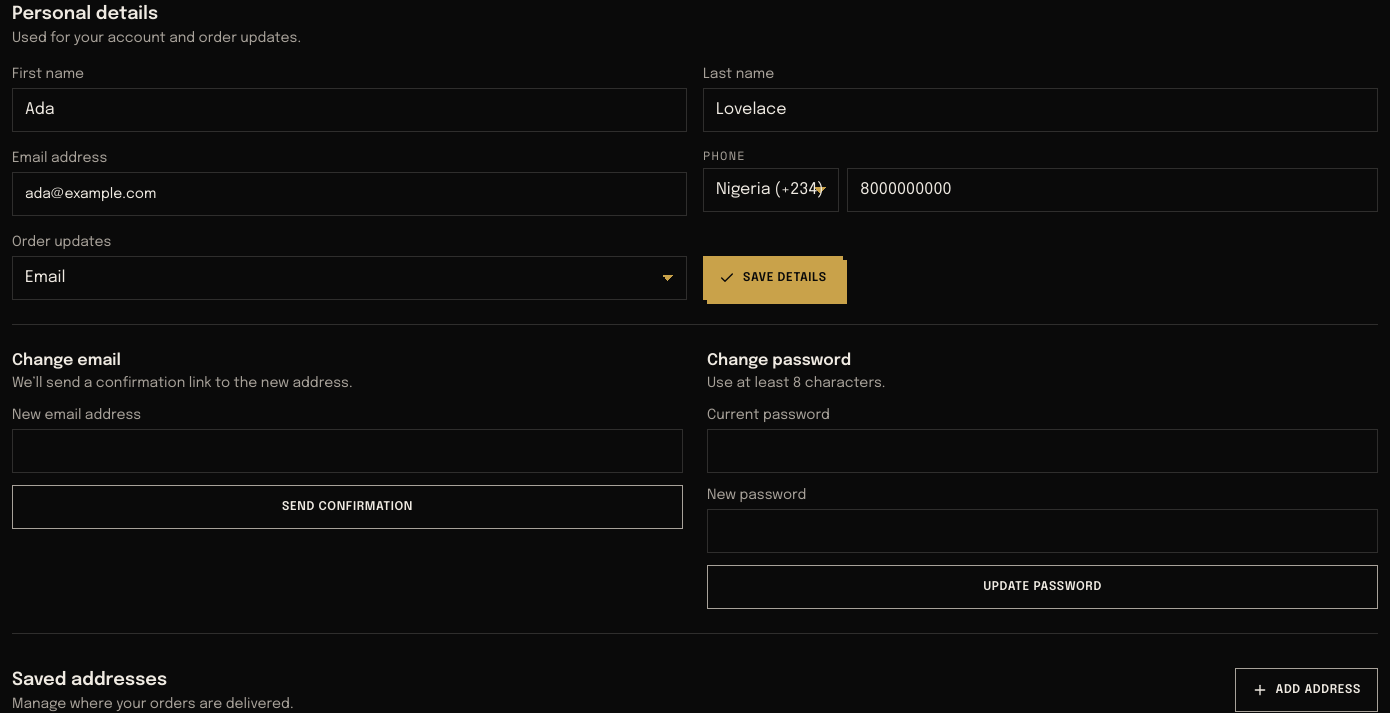
Scenario: AccountProfile › lets the customer change their password
Type "old-password" into the password field labelled "Current password". click: (1042, 451)
box: [707,429,1378,473]
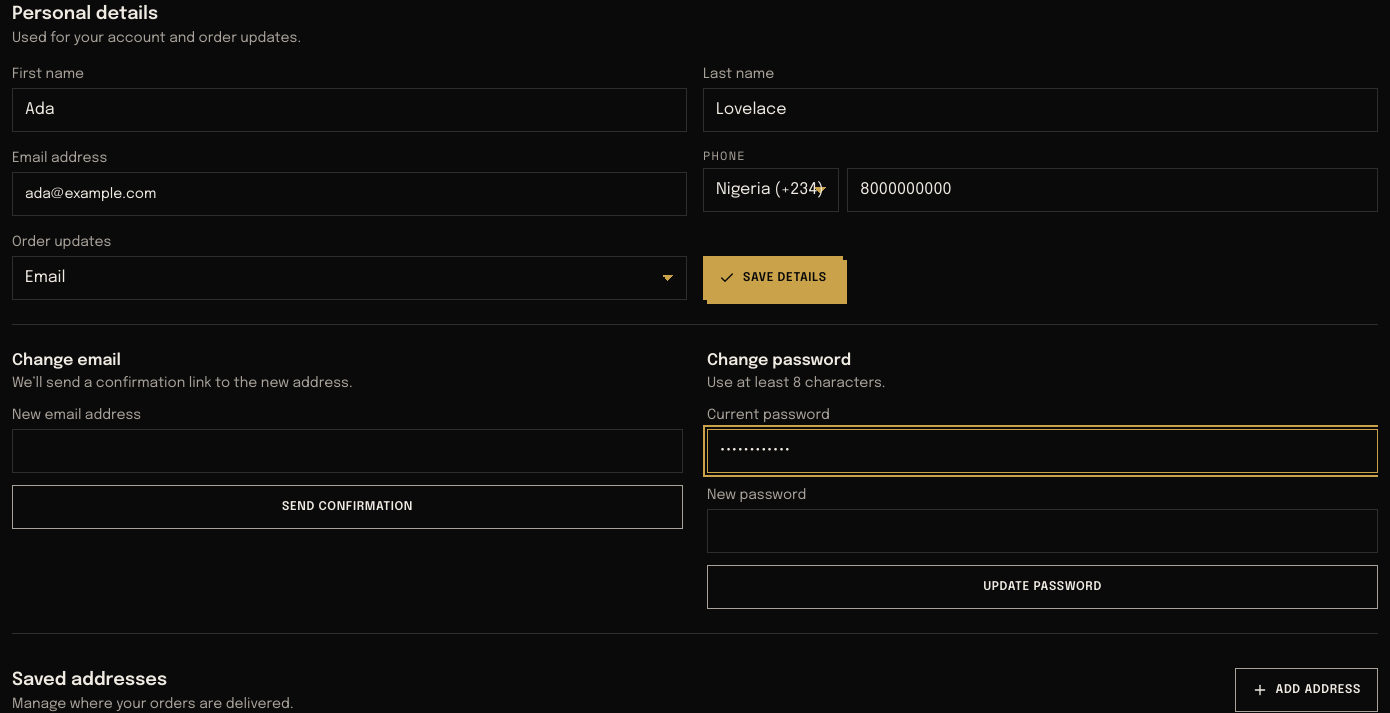
Type "new-password-123" into the password field labelled "New password". click: (1042, 531)
box: [707,509,1378,553]
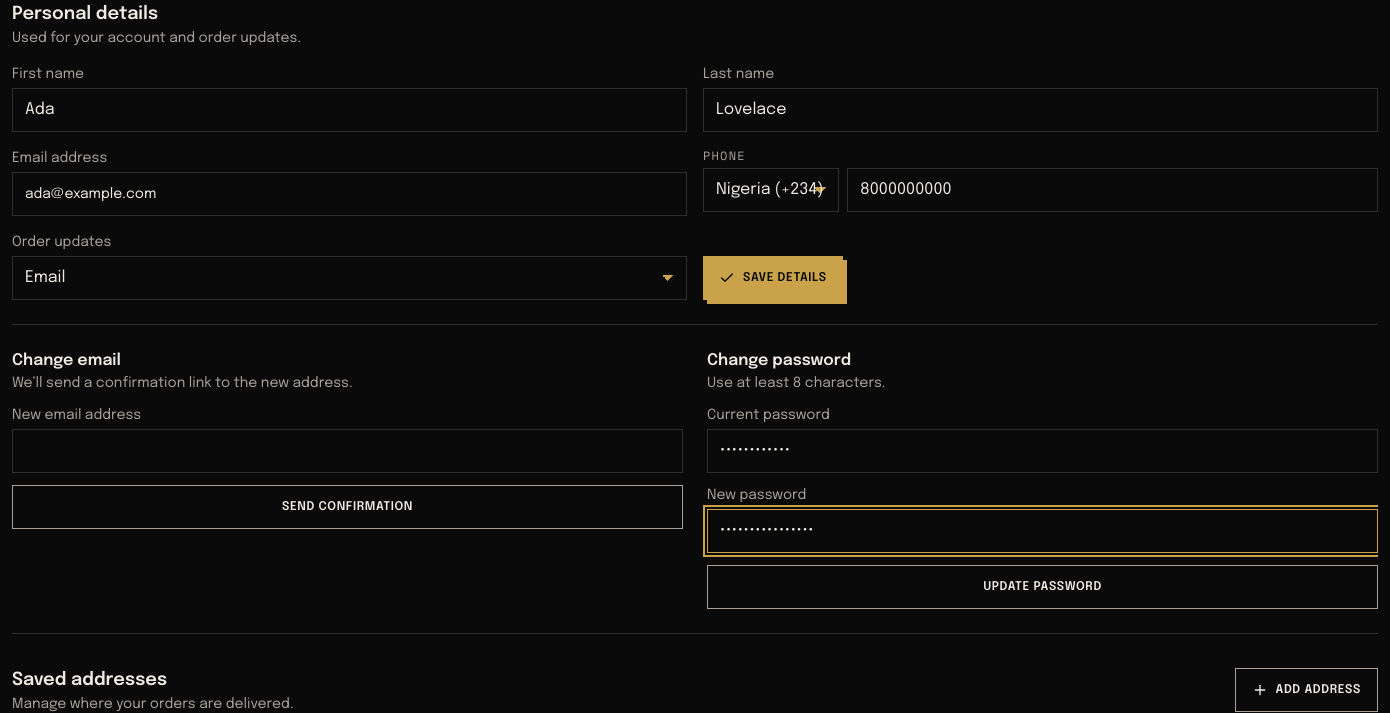
Click the button "Update password". click: (1042, 587)
box: [707,565,1378,609]
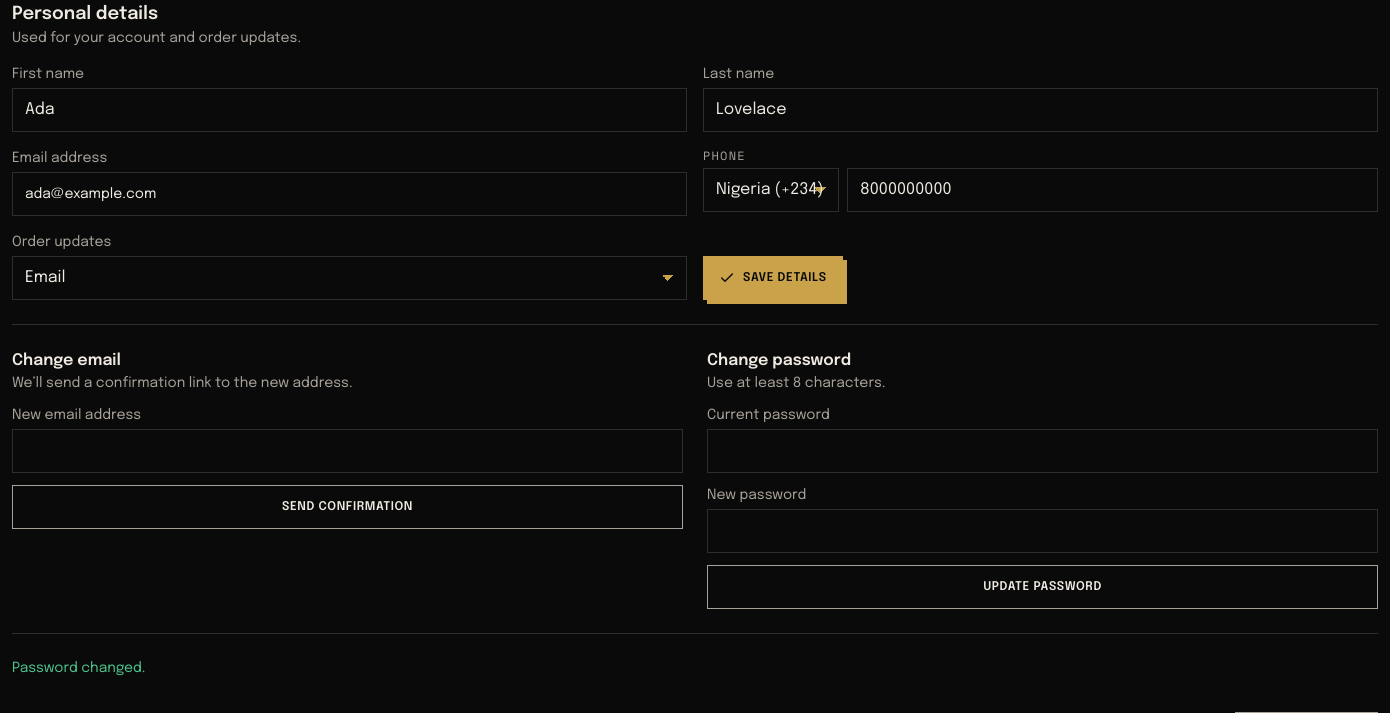
Expected: the text "Password changed." is shown, [12,661,145,675]
